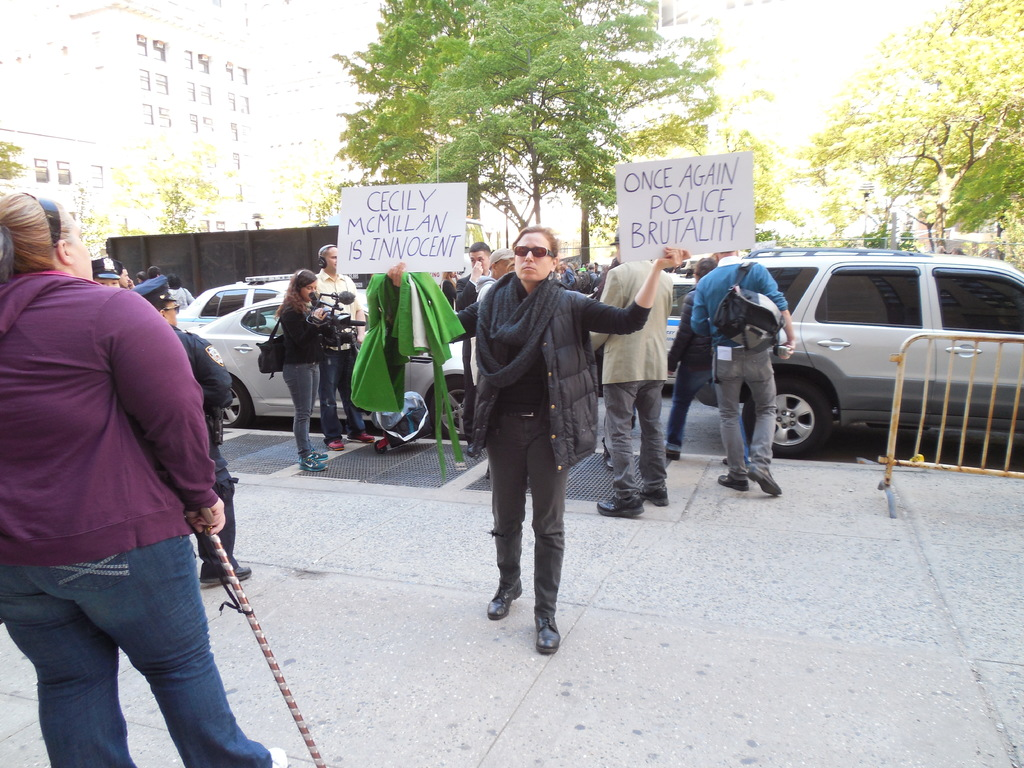Car: (177, 248, 1023, 460), (702, 245, 1023, 458), (184, 291, 488, 454), (173, 268, 382, 335), (665, 272, 705, 396)
